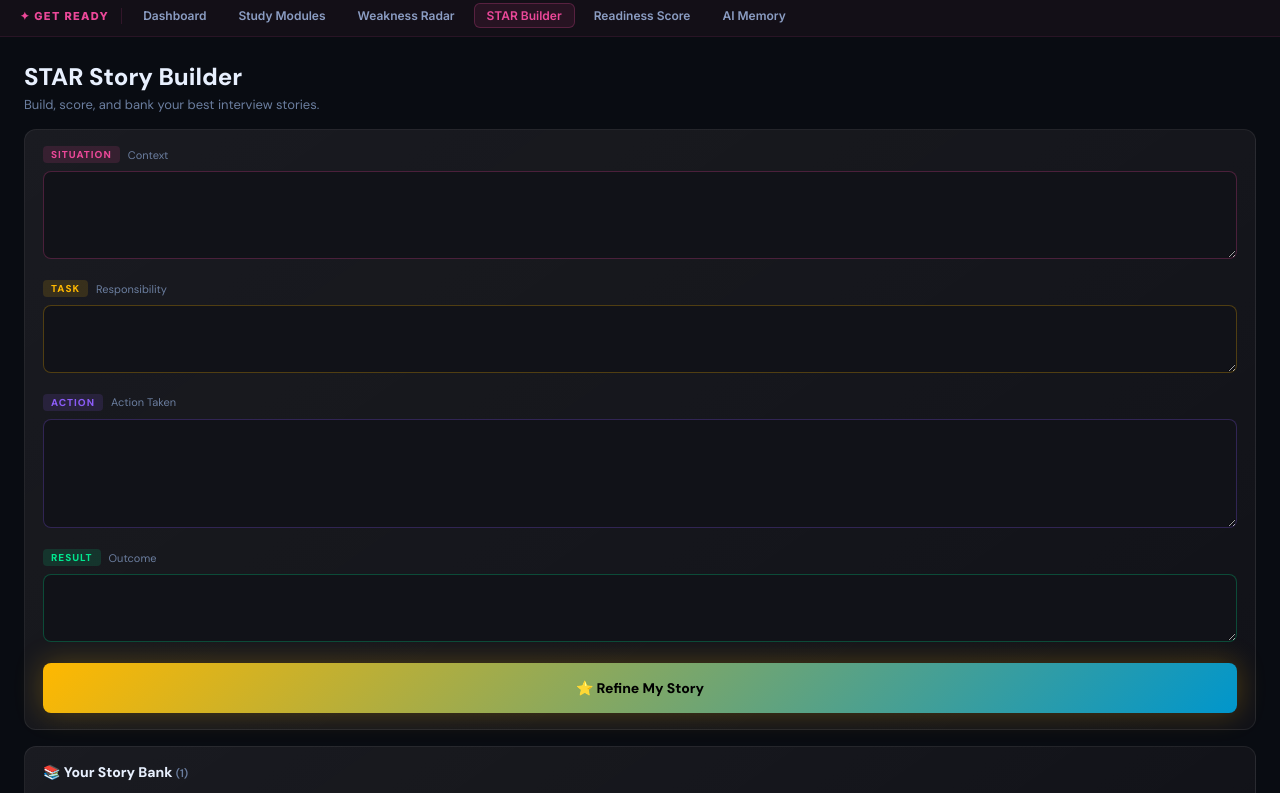
Test: saving a story the server already has › tells the user it was already saved, and the Save button shows saved
The image size is (1280, 793).
Type "Our checkout team had to migrate platforms while 2 million users shopped daily." into the text box named "Situation" at (640, 215), box [43,171,1237,259]
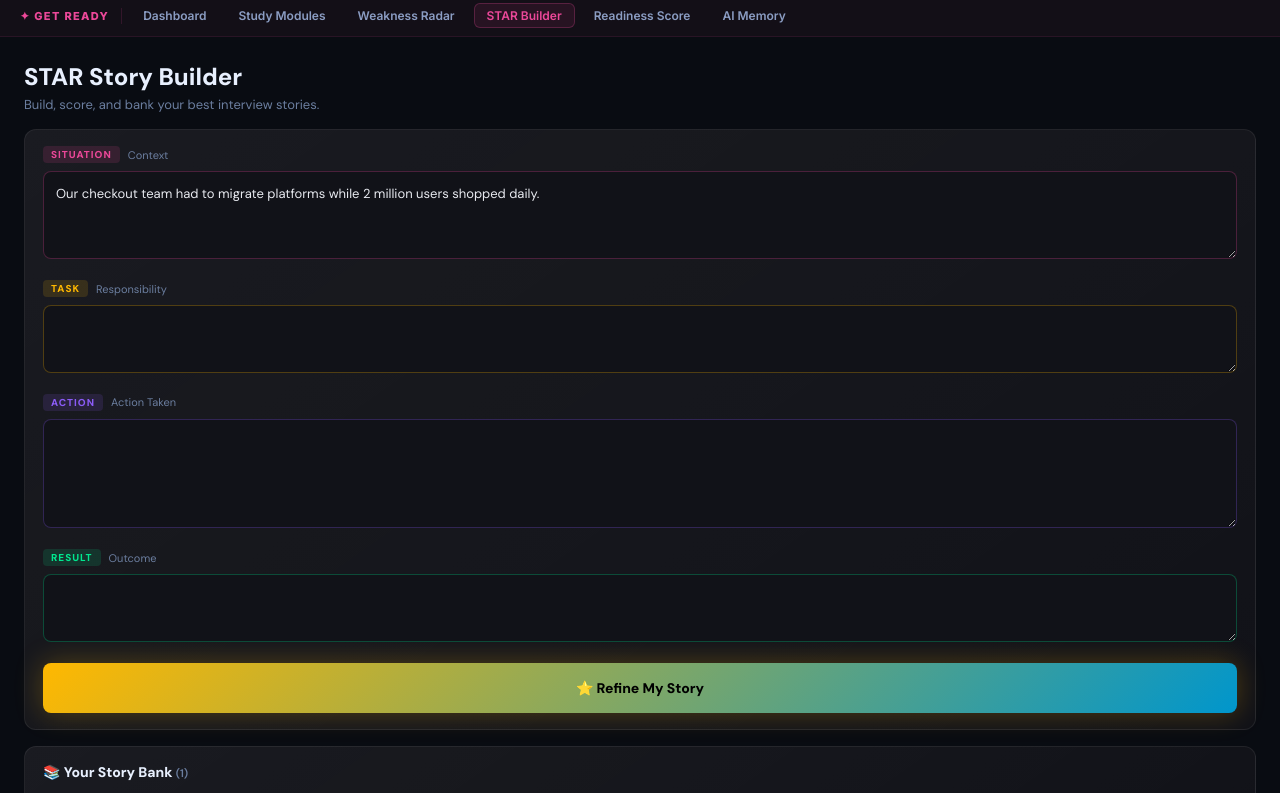
Type "I owned the migration plan and had to avoid downtime." into the text box named "Task" at (640, 339), box [43,305,1237,373]
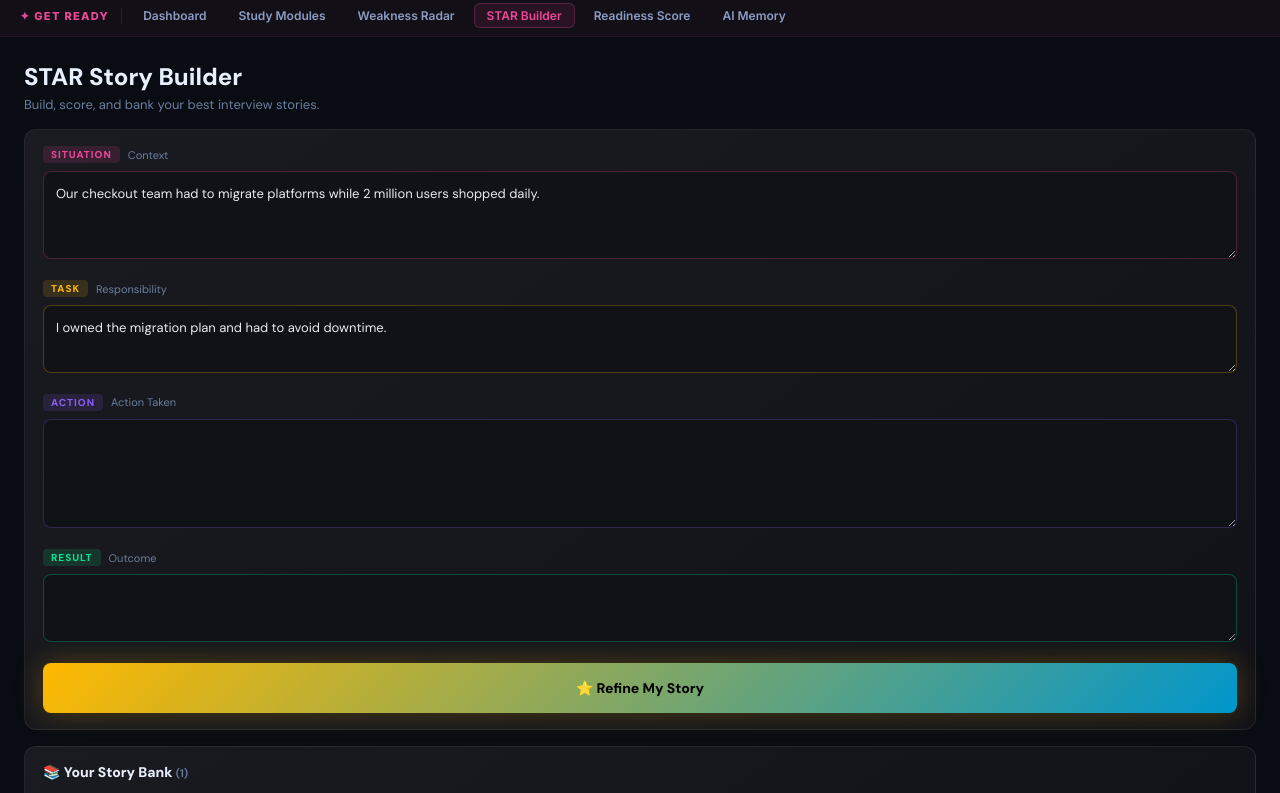
Type "I set up blue-green deployments and wrote rollback scripts." into the text box named "Action" at (640, 474), box [43,419,1237,528]
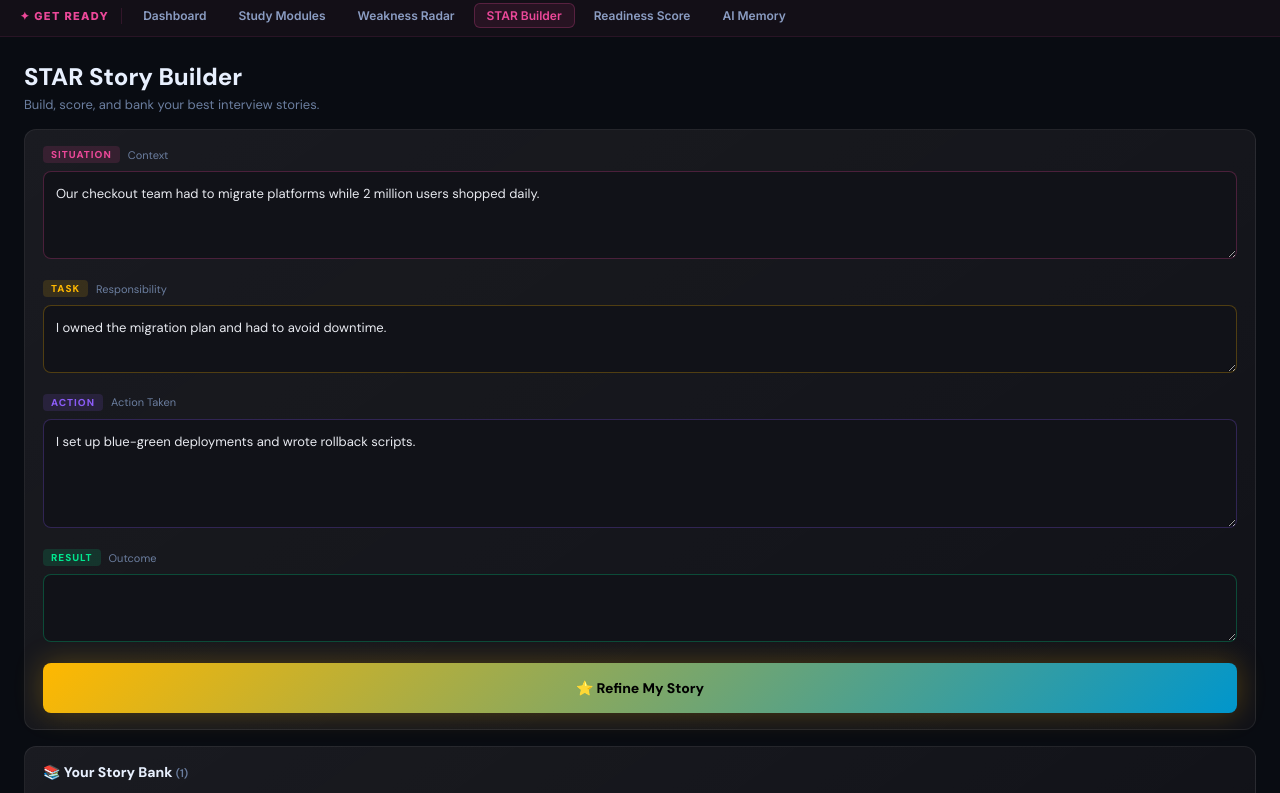
Type "We finished with no downtime and conversion rose 15 percent." into the text box named "Result" at (640, 608), box [43,574,1237,642]
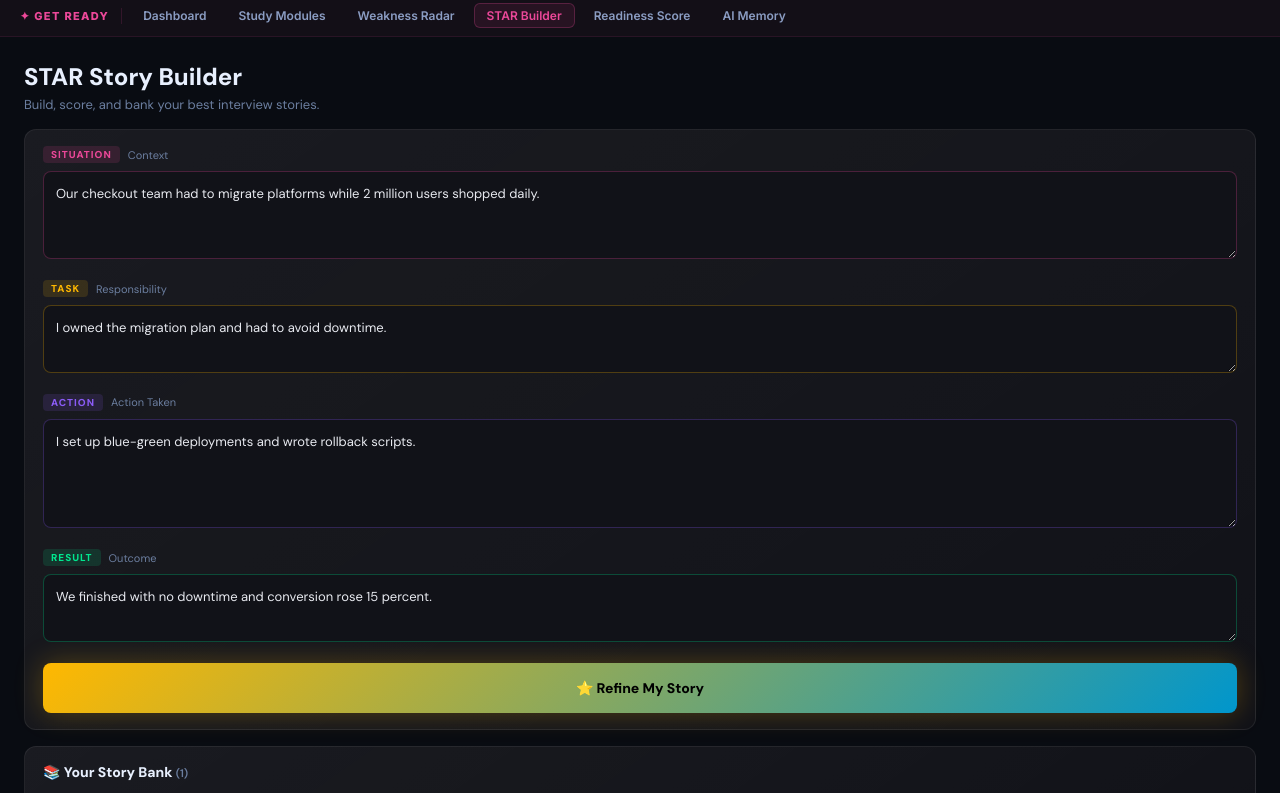
Click the button "⭐ Refine My Story" at (640, 688), box [43,663,1237,713]
(page scrolled)
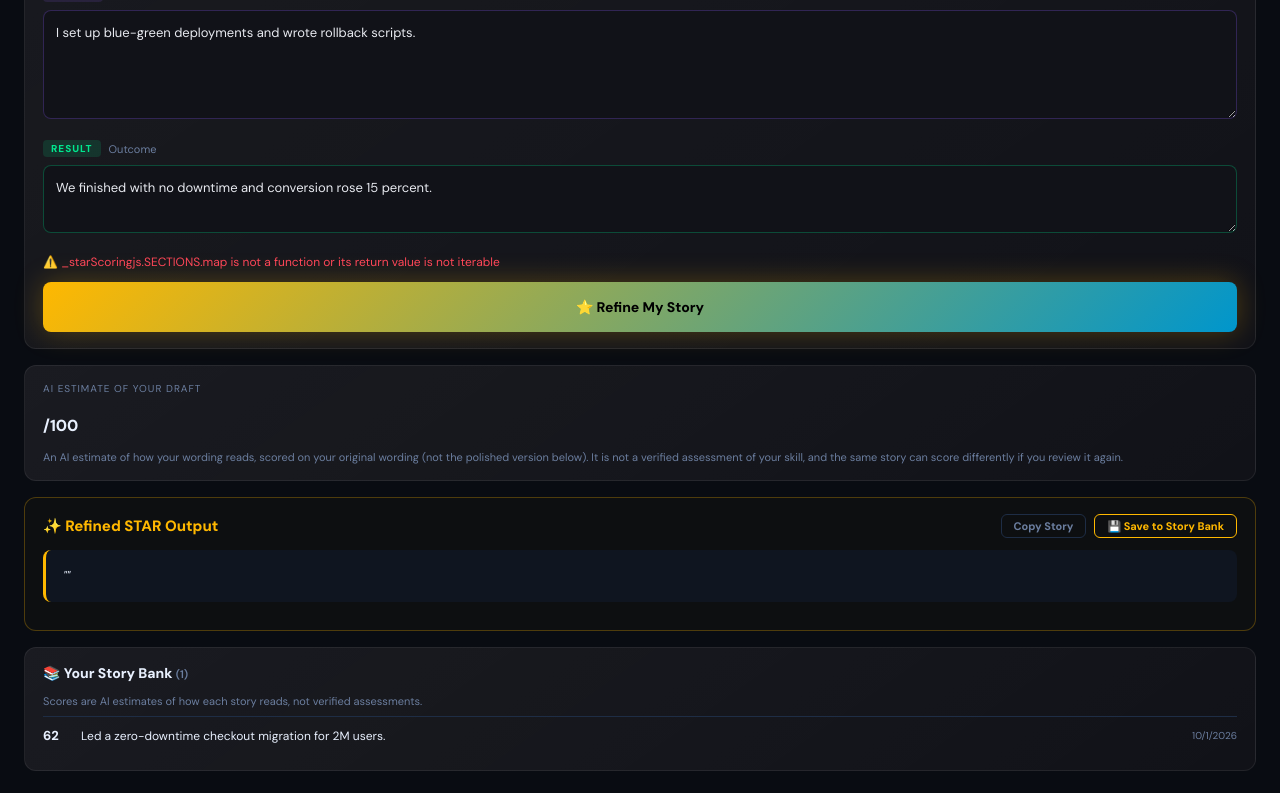
Click the button "💾 Save to Story Bank" at (1166, 526), box [1094,514,1237,538]
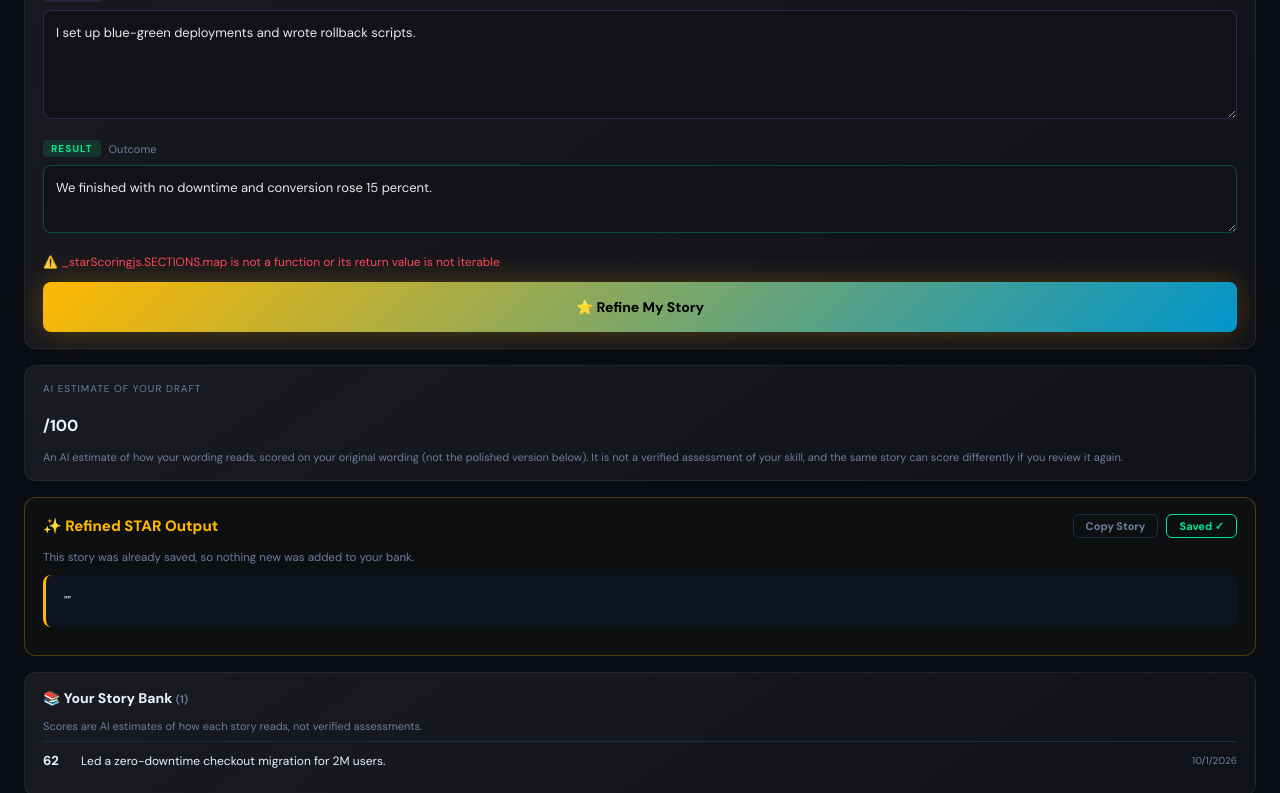
Now the text "already saved" is shown, box [43,550,414,565]
